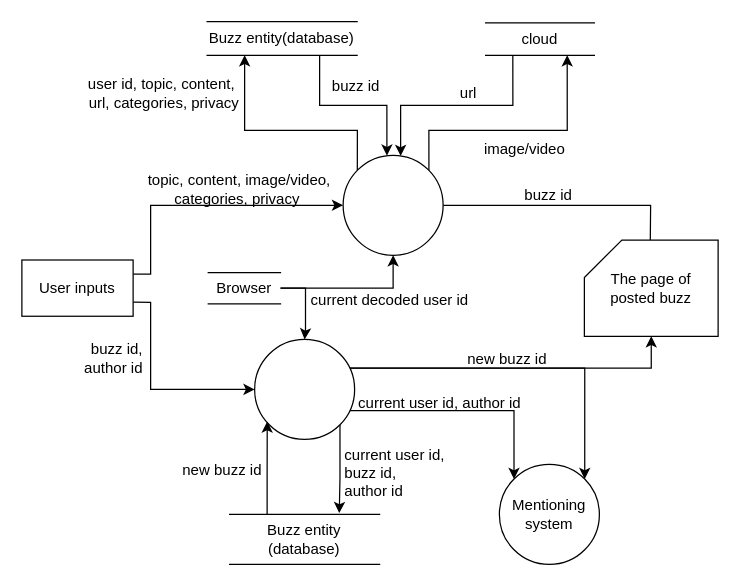
The diagram is 740 pixels wide and 588 high, and some of its shapes have lost their labels. The centre of each missing label's shape, as x and y in pixels:
Posting buzzes: point 392,204
Re-buzz: point 304,388
